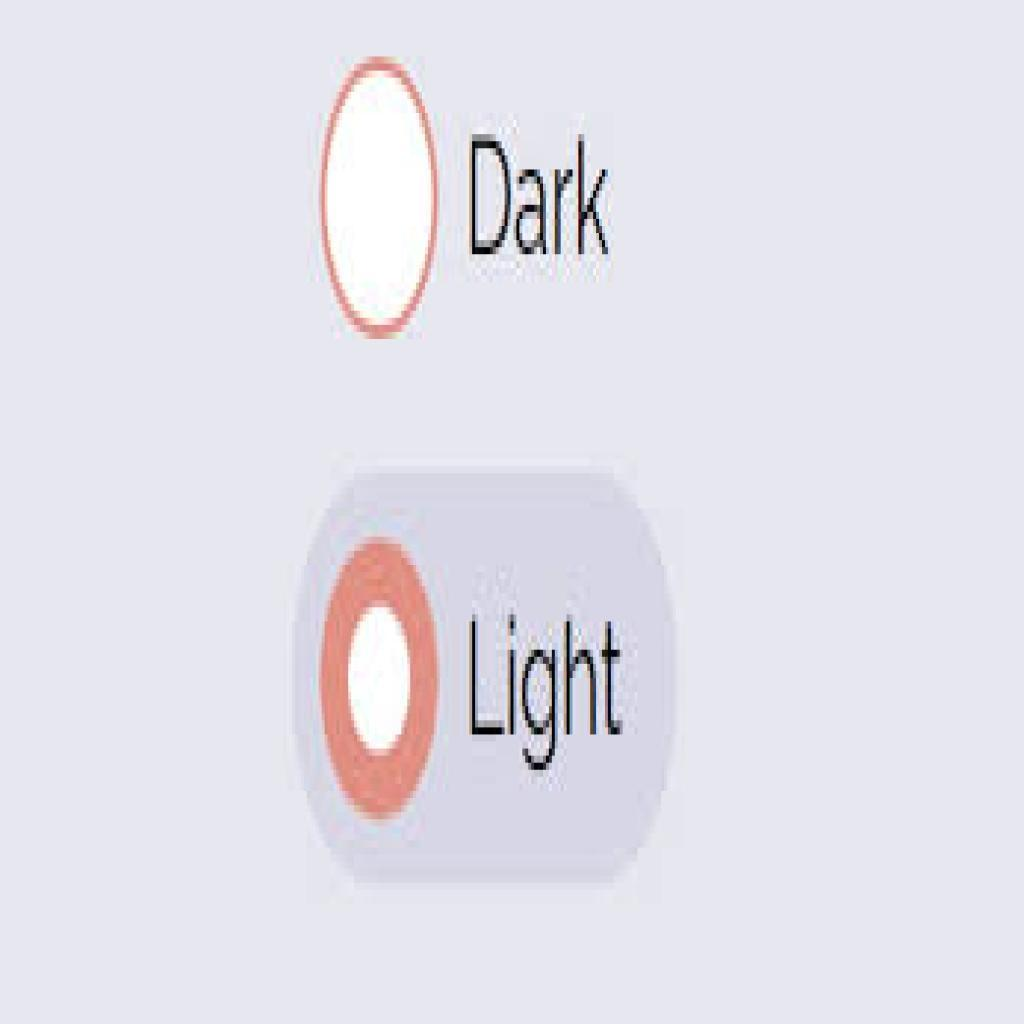label: (456, 611, 637, 754), (462, 129, 627, 270)
radio: (316, 533, 447, 827), (315, 57, 443, 344)
